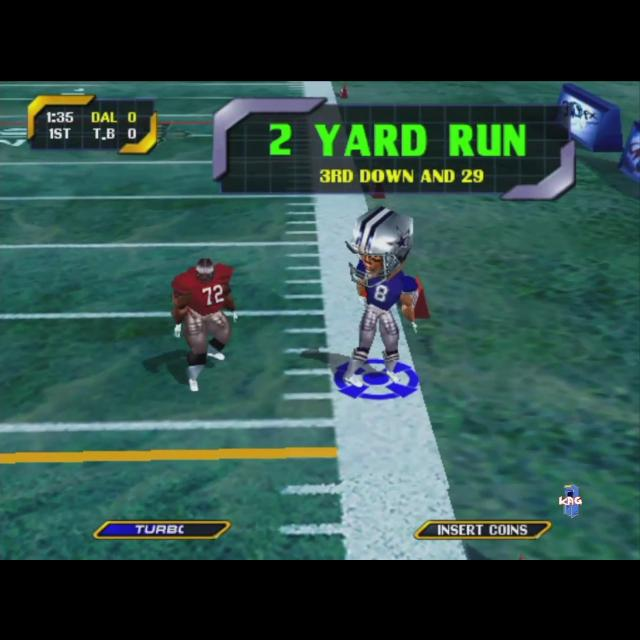player: (344, 206, 431, 387), (171, 257, 237, 391)
